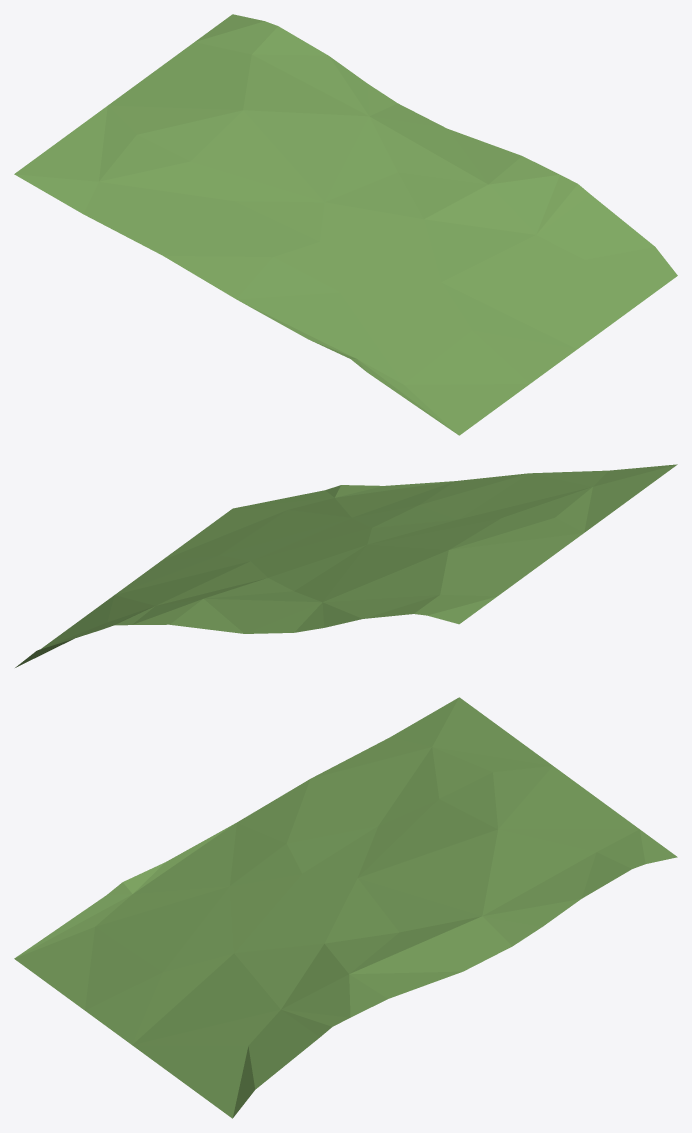
File: Bridge.A1.1.fbx
3 views of the same model, one above another, from view 1: azimuth 30°, elevation 25°; view 2: azimuth 210°, elevation 25°; view 3: azimuth 270°, elevation 25° (orthographic).
Visible parts, largest first — view 1: hill_conn.005; view 2: hill_conn.005; view 3: hill_conn.005.
Boxes of the visible parts, left/top/right/bottom form: hill_conn.005: left=14, top=14, right=677, bottom=435; hill_conn.005: left=15, top=464, right=677, bottom=667; hill_conn.005: left=14, top=697, right=677, bottom=1118.
Size of the model in its own units: 0.7538 by 0.7872 by 0.2012.
